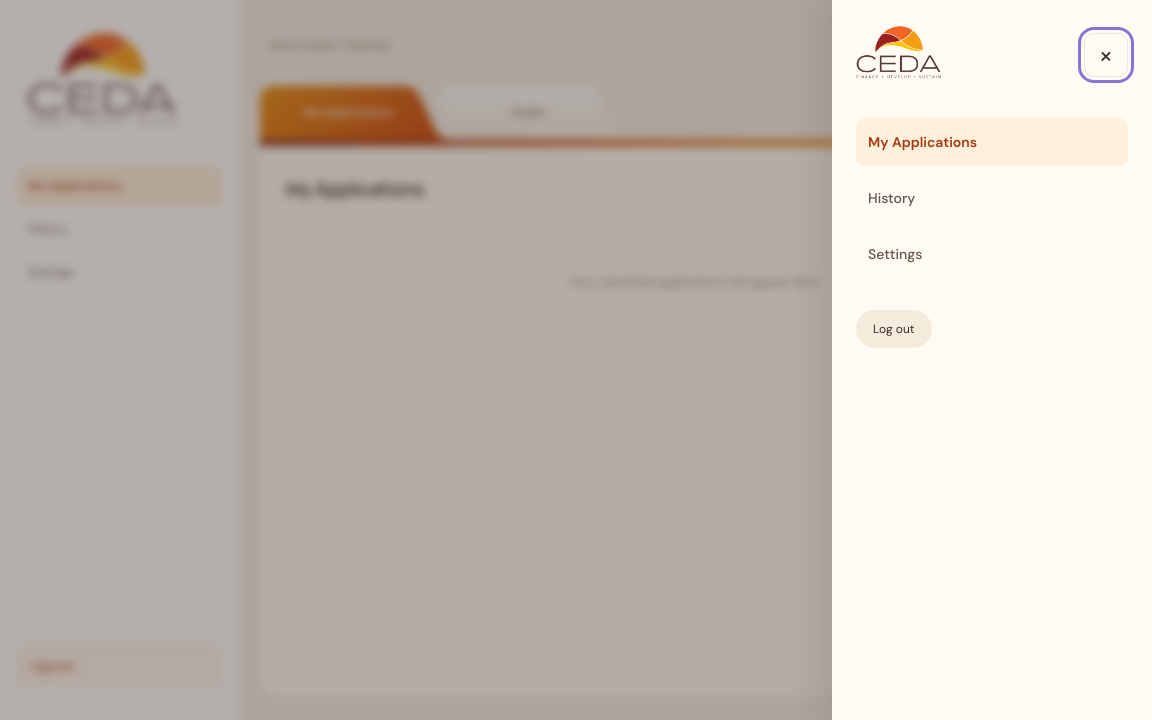
Test: opens mobile navigation and navigates to applicant account details
Earlier steps of the test are not shown.
Click the button "Settings".
click(895, 254)  # box [856,230,1128,278]
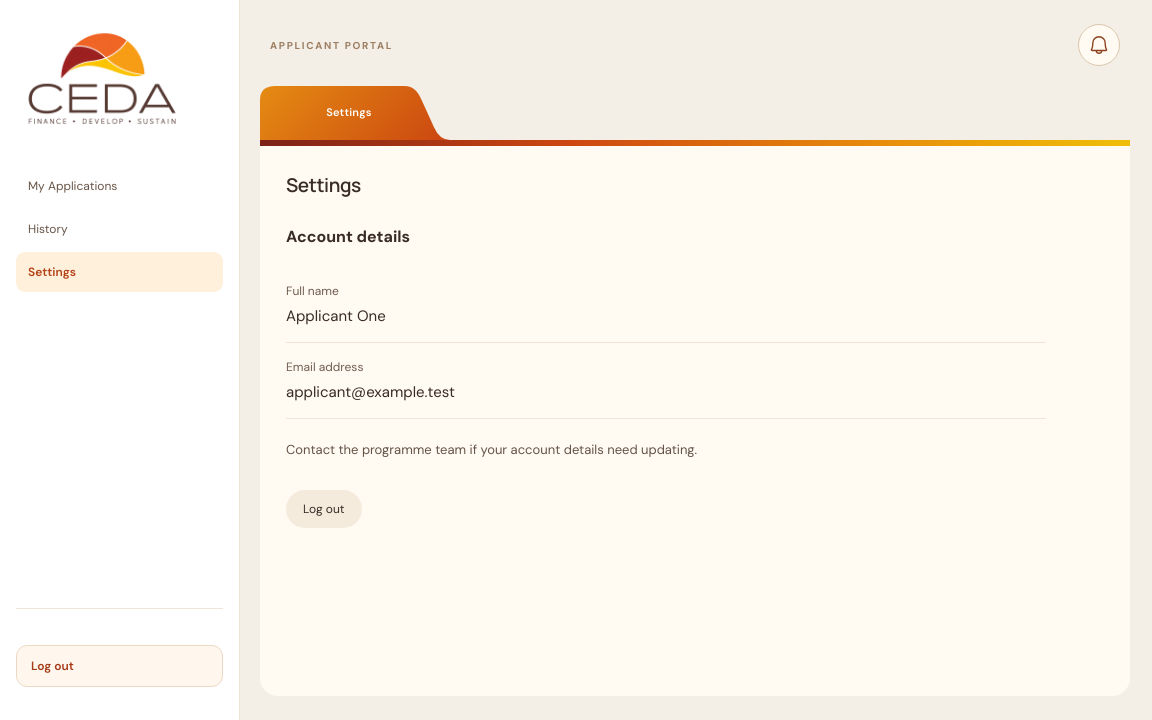
Expected: the text "applicant@example.test" is shown, [286,382,455,402]
Expected: the dialog is gone
